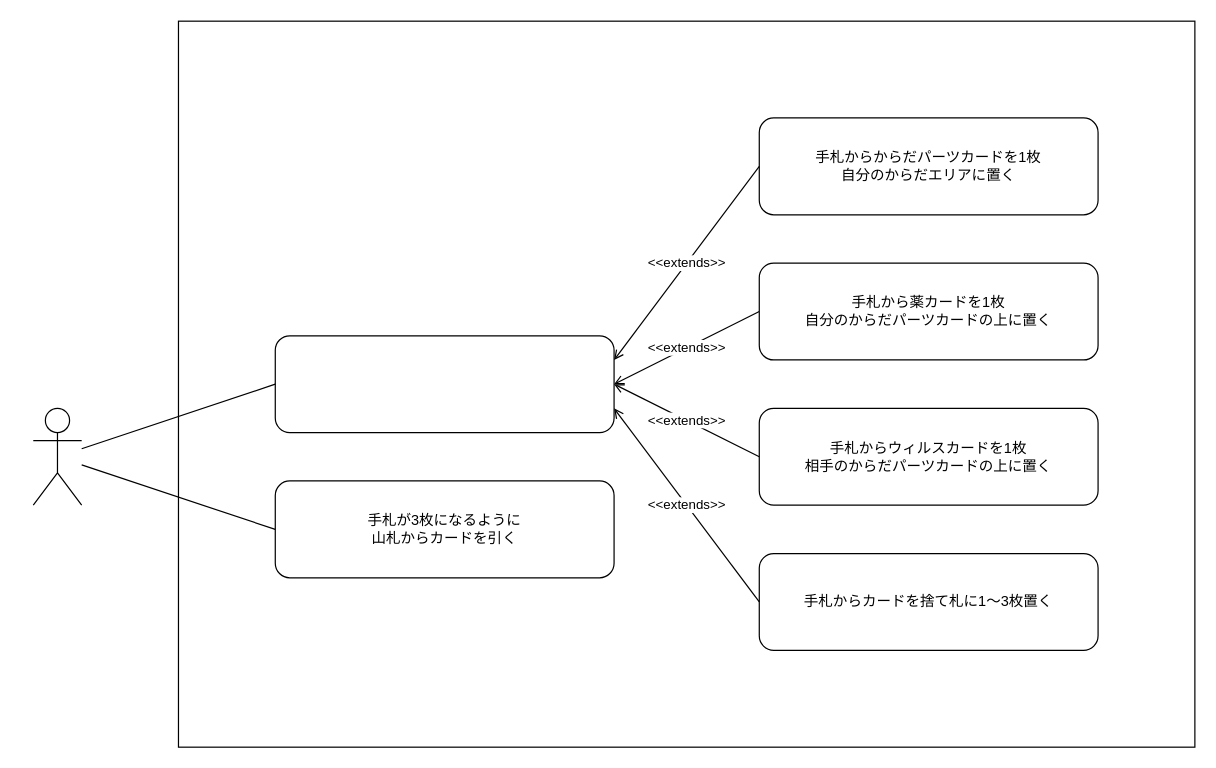
This 1216x768 diagram has some shape labels left out. Here are the shapes that lost their labels. From the top down, the centre of each, then its label:
(x=444, y=384): アクションを行う
(x=57, y=456): プレイヤー
